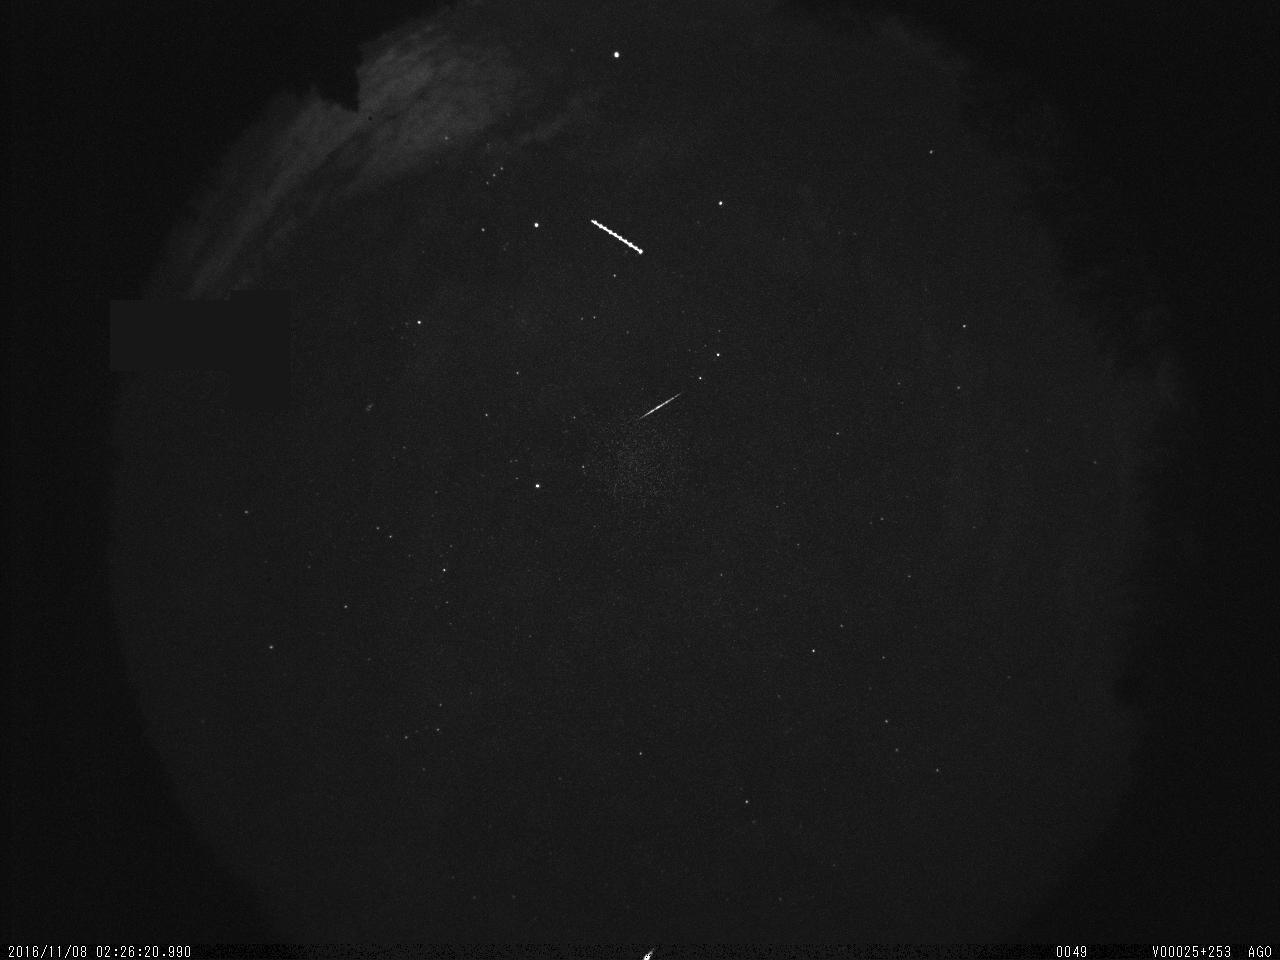Meteor: (637, 390, 686, 423)
